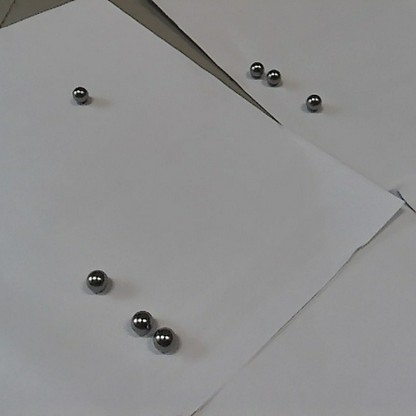ironball: (128, 308, 156, 338), (151, 325, 177, 351), (84, 268, 109, 295), (301, 91, 324, 115), (69, 84, 89, 106), (264, 66, 282, 87), (246, 59, 264, 80)
